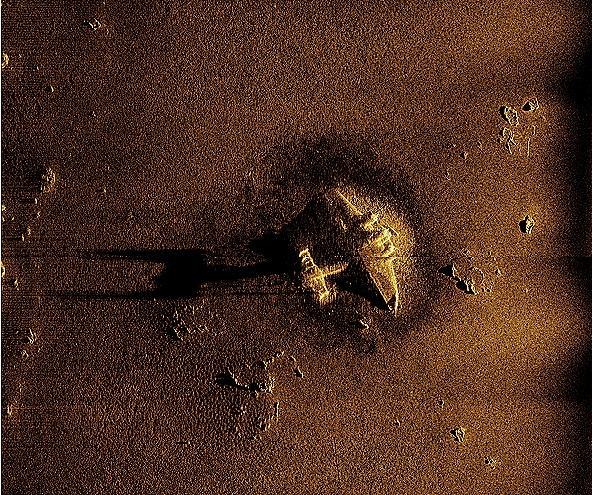aircraft: (288, 187, 410, 317)
